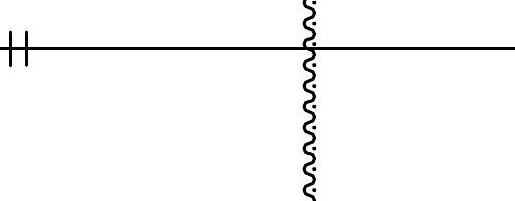115_buffer: (9, 30, 28, 67)
